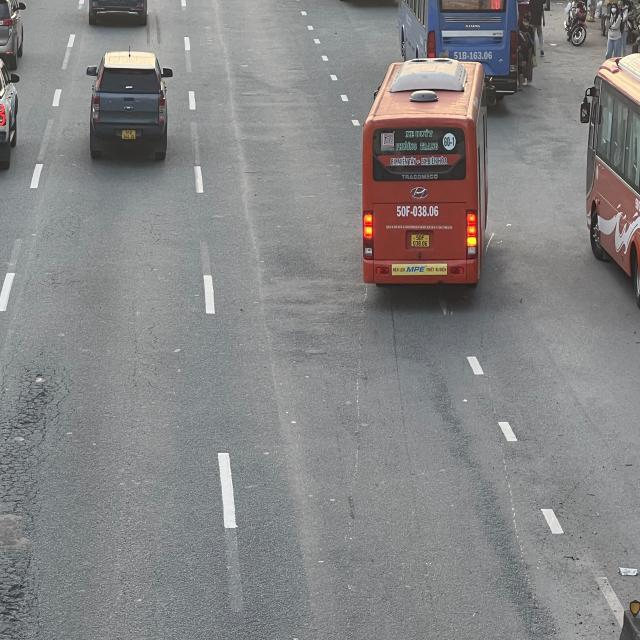car: (88, 49, 174, 158)
coach: (364, 60, 491, 288), (579, 52, 636, 300), (402, 0, 521, 87)
